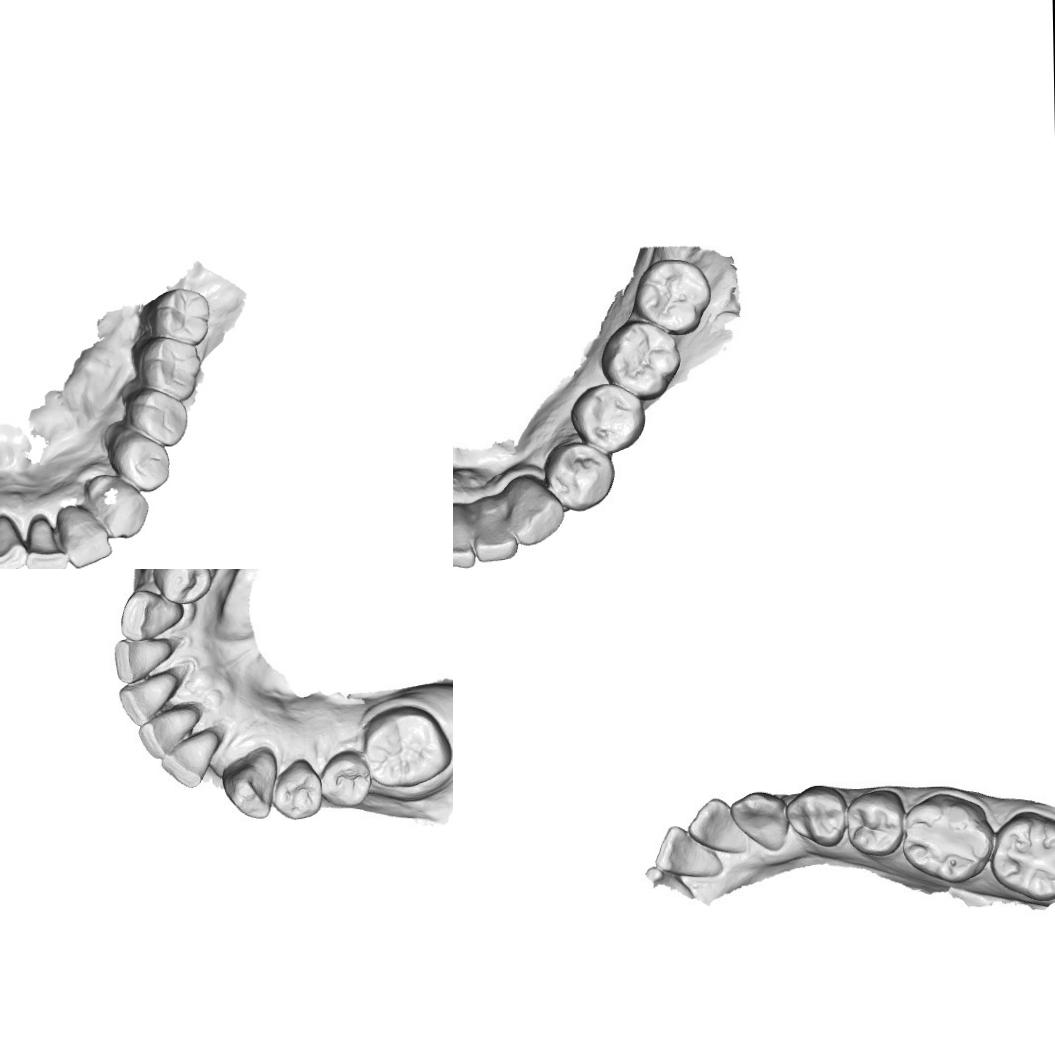canine: (221, 744, 280, 821), (85, 472, 151, 540), (507, 476, 564, 548), (732, 789, 791, 853), (118, 588, 186, 642)
incisor: (653, 823, 724, 881), (684, 792, 744, 860), (159, 728, 221, 790), (117, 669, 180, 728), (57, 504, 114, 569), (136, 704, 201, 761), (470, 496, 520, 559), (112, 637, 175, 685), (24, 517, 68, 569), (0, 514, 30, 569), (453, 500, 477, 566)
molar: (903, 793, 992, 884), (361, 703, 453, 789), (991, 809, 1055, 900), (605, 324, 681, 398), (636, 260, 708, 335), (130, 337, 204, 403), (141, 284, 212, 346)
premolar: (571, 381, 650, 454), (547, 438, 619, 512), (104, 422, 172, 492), (848, 786, 908, 861), (784, 785, 850, 846), (126, 389, 190, 449), (272, 758, 325, 822), (318, 748, 372, 809), (150, 569, 213, 606)
